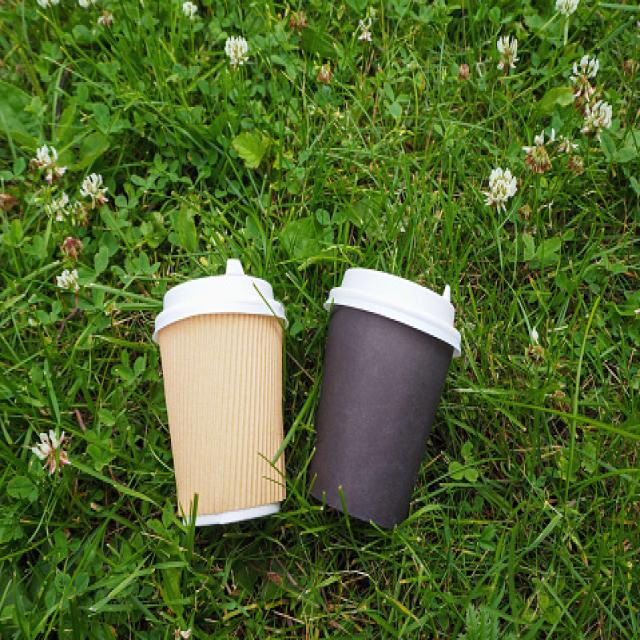paper_cup: (167, 241, 299, 548)
